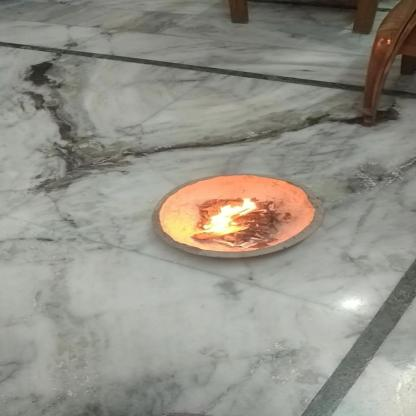fire: (197, 196, 263, 236)
